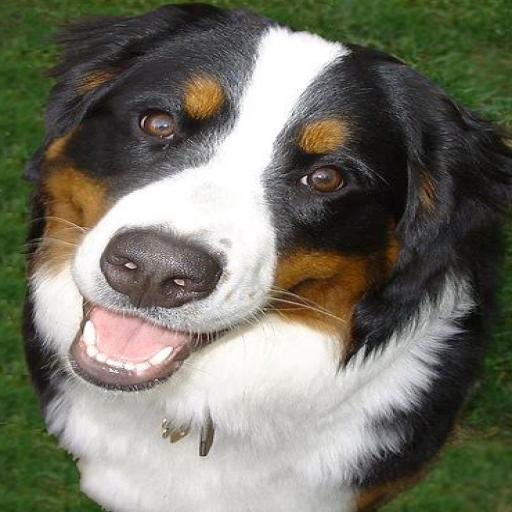dog_face: (36, 16, 482, 373)
